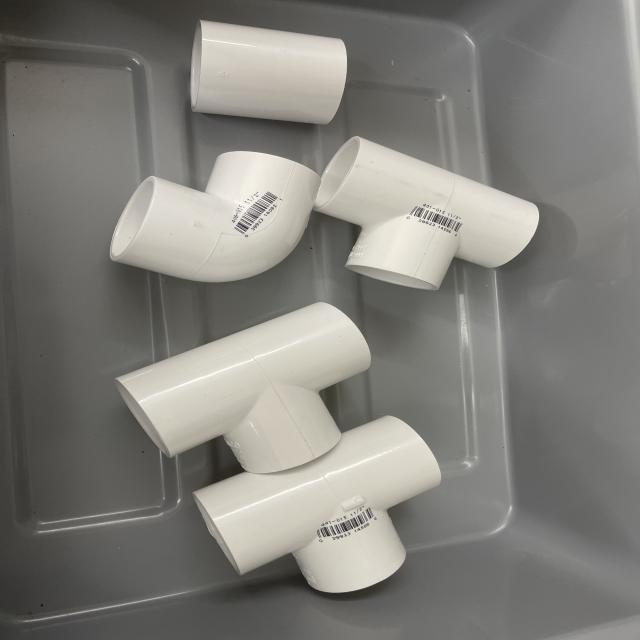L Joint: (108, 151, 323, 286)
T Joint: (193, 416, 443, 595), (114, 302, 372, 473)
